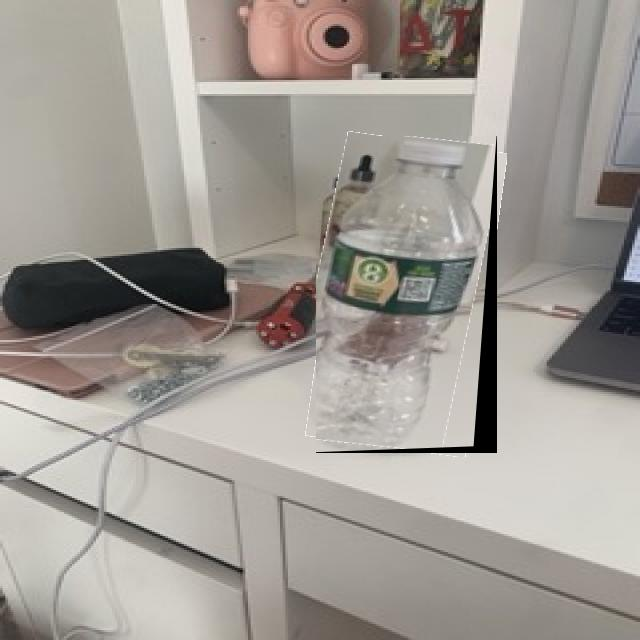water_bottle: (316, 136, 497, 453)
